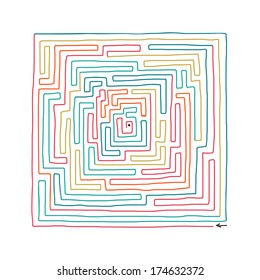maze: (32, 32, 227, 227)
